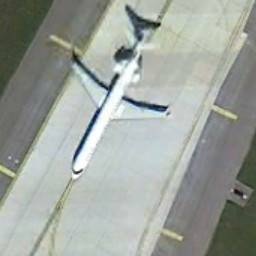Airplane: (49, 13, 187, 198)
